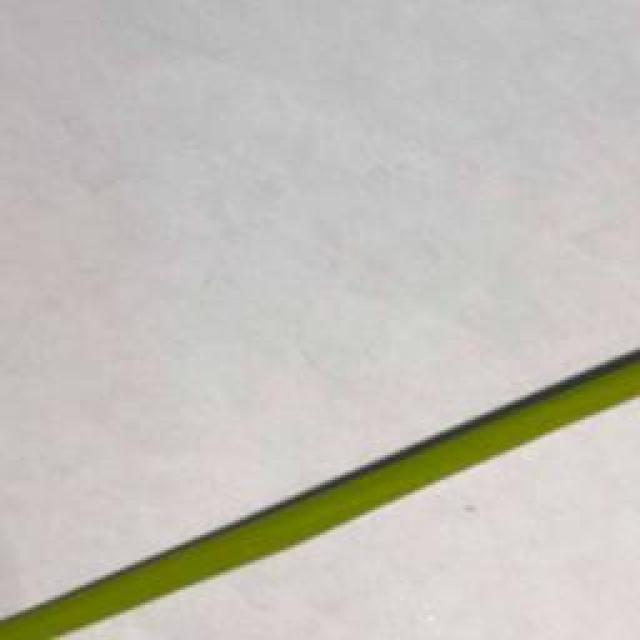Healthy-Plant: (0, 345, 640, 640)
